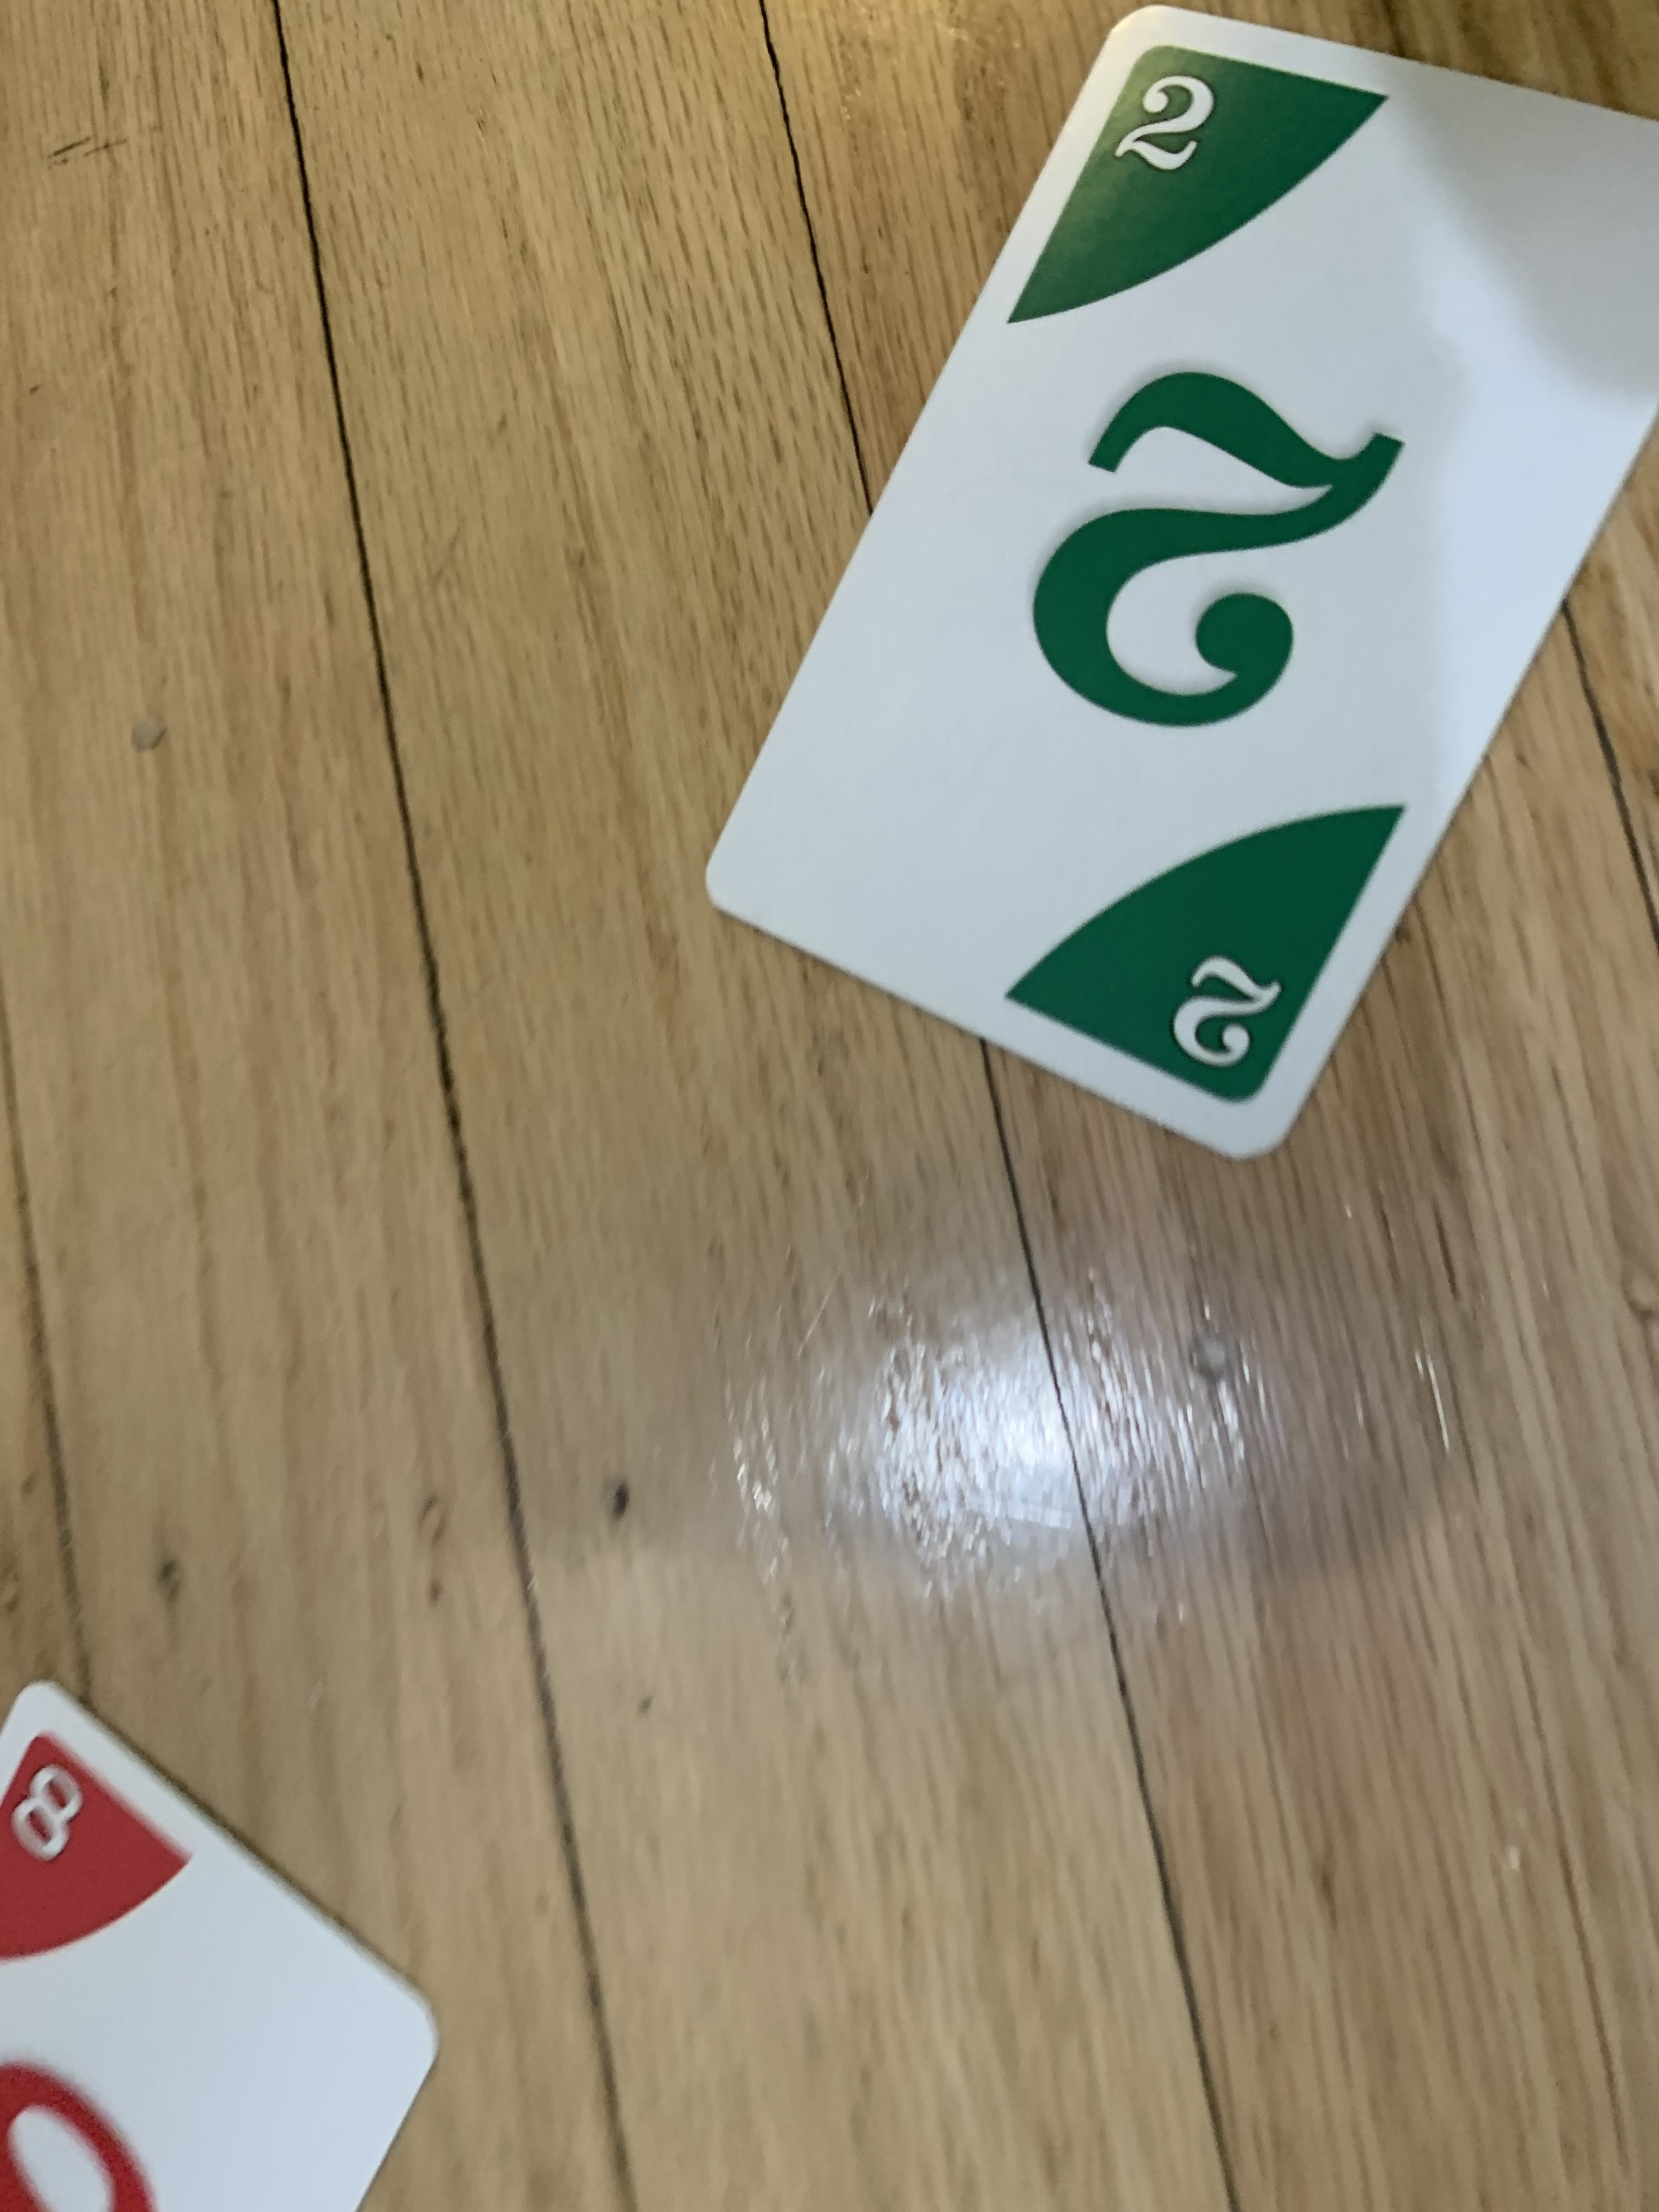two: (687, 14, 1659, 1174)
